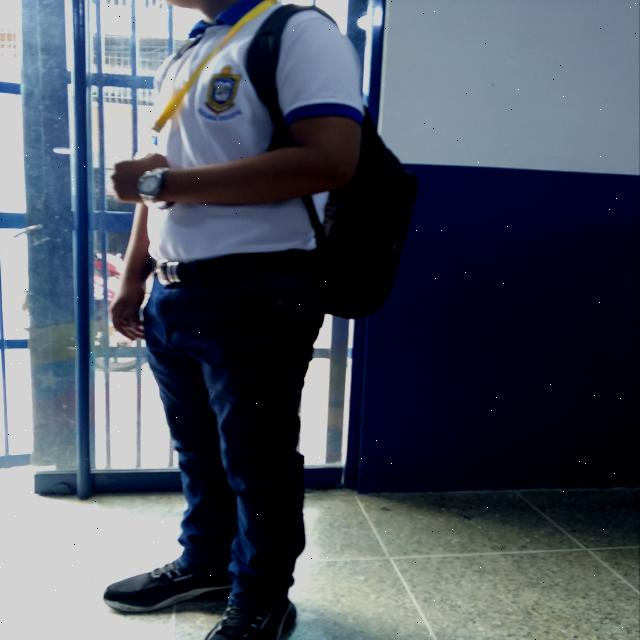pantalon_oscuro: (144, 266, 326, 609)
uniforme_superior: (146, 0, 366, 263)
